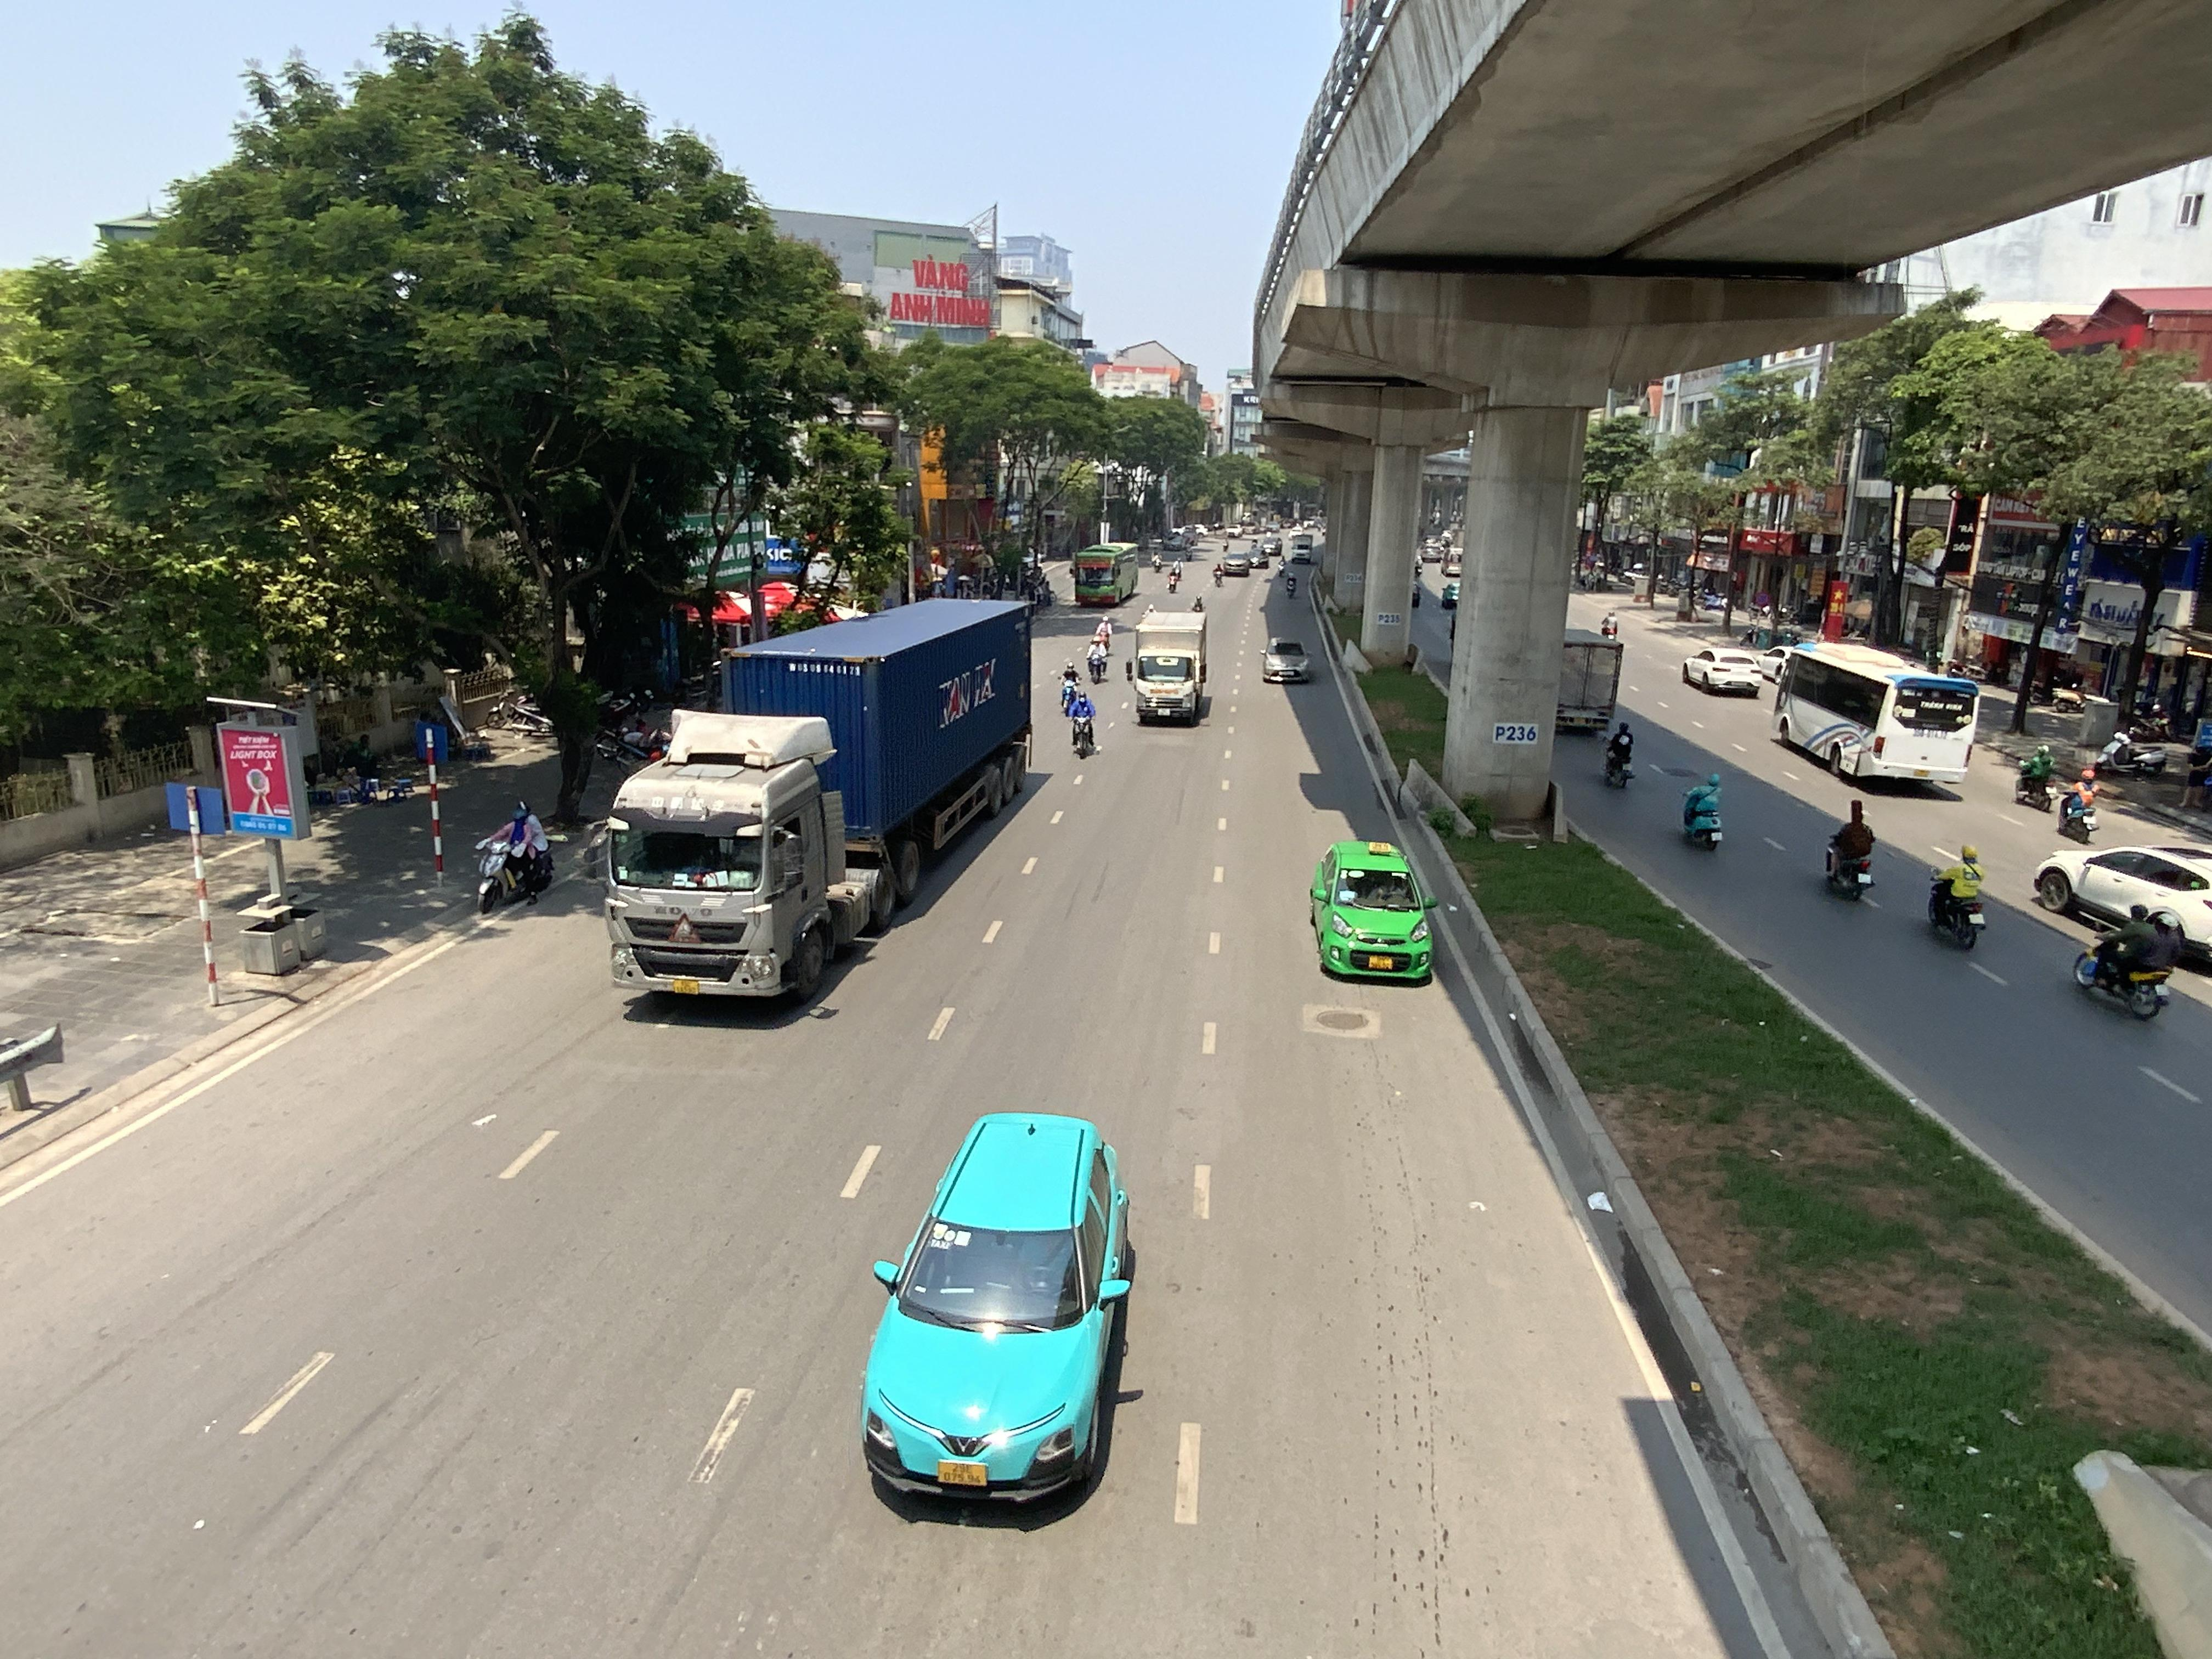BSV: (937, 1460, 989, 1486), (672, 979, 700, 995)
bus: (1771, 636, 1979, 789), (1073, 540, 1139, 606)
car: (859, 1110, 1141, 1514), (2031, 842, 2212, 978), (1308, 838, 1435, 983), (1684, 645, 1766, 697), (1263, 636, 1313, 681), (1223, 551, 1251, 577), (1247, 547, 1270, 570)
motorbike: (2073, 903, 2174, 1019), (475, 802, 554, 913), (1926, 843, 1987, 950), (1824, 802, 1876, 903), (2094, 721, 2170, 777), (1681, 774, 1724, 849), (2055, 767, 2097, 842), (2013, 741, 2057, 810), (1602, 714, 1635, 788), (1066, 687, 1099, 758), (1057, 662, 1083, 714), (1085, 634, 1108, 685), (1096, 615, 1113, 650)
truck: (601, 594, 1035, 1002), (1129, 610, 1211, 725), (1557, 624, 1623, 734)
